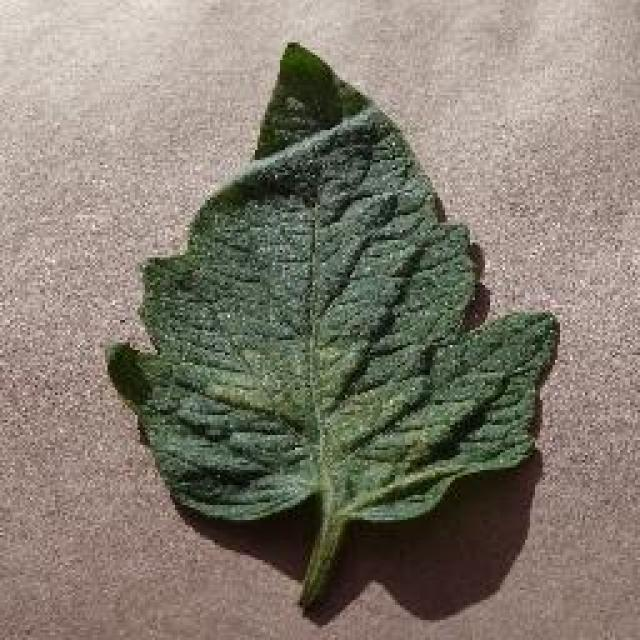Tomato mosaic virus leaf: (109, 44, 556, 528)
